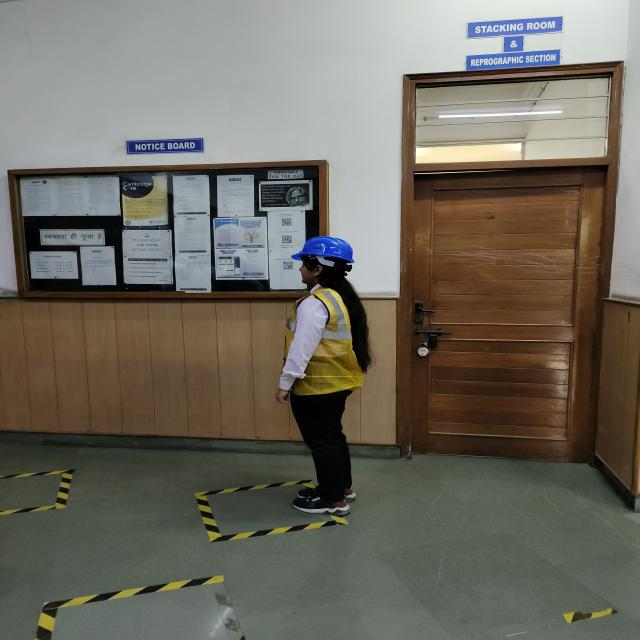safe: (276, 236, 366, 515)
